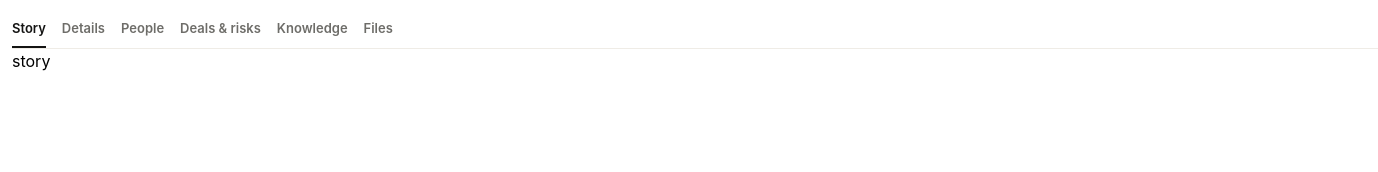
Scenario: DetailTabs (spec §1.5) › selects on click and scrolls the chosen tab into view
This screenshot has width=1378, height=172.
Click the tab "Knowledge": [312, 30] box [277, 12, 348, 48]
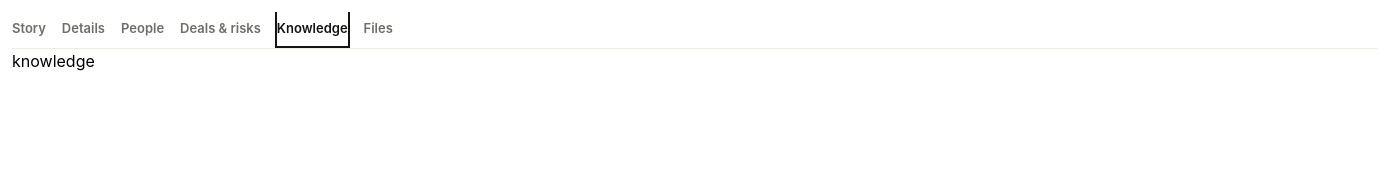
Check: the panel "knowledge" is shown, box [12, 51, 95, 71]
